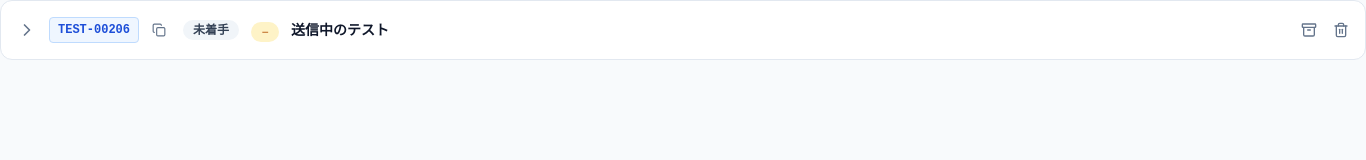
Scenario: TicketItem close confirmation while submitting › is busy with "(submitting)" in its name while the close request is pending
The image size is (1366, 160).
Click the button named "クローズ（対応せず終了）" at (1309, 30), box [1297,18,1321,42]
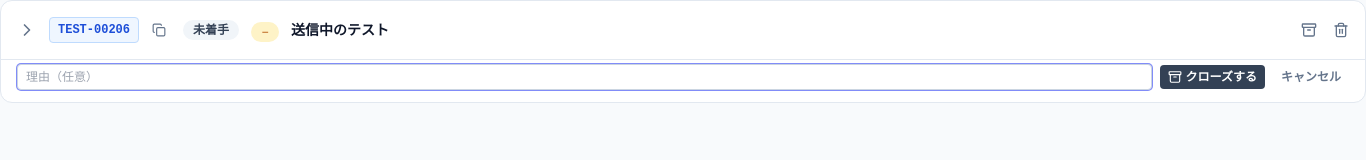
Click the button "クローズする" at (1212, 77), box [1160,65,1265,89]
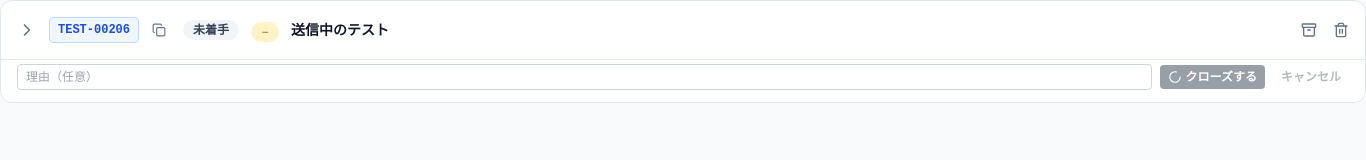
Expected: the button "クローズする" is disabled, [1160,65,1265,89]
